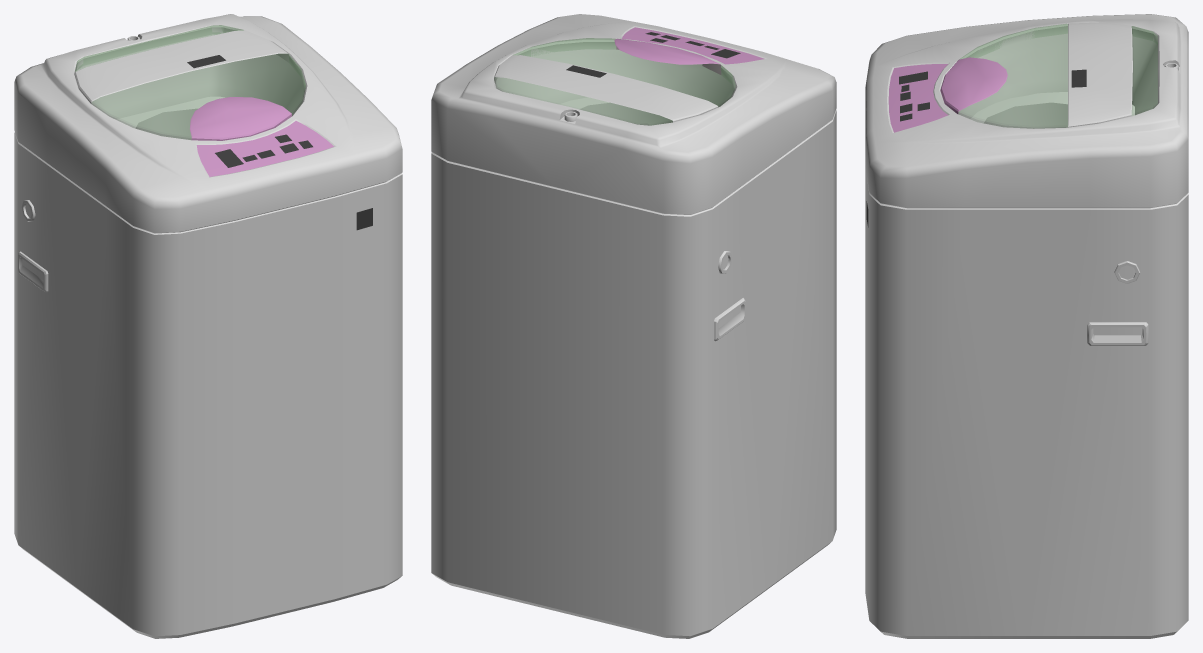
Rendered from HAIERXQB4510B.FBX.
3 renders of one model, left to right at view 1: azimuth 30°, elevation 25°; view 2: azimuth 150°, elevation 25°; view 3: azimuth 270°, elevation 25°, orthographic. The views are drawn at different scales.
Visible parts, largest first — view 1: HAIERXQB4510B; view 2: HAIERXQB4510B; view 3: HAIERXQB4510B.
Part boxes in pixels (x1,y1,x2,y2): HAIERXQB4510B: (14,14,402,638); HAIERXQB4510B: (431,14,836,638); HAIERXQB4510B: (865,14,1188,638).
Size of the model in its own units: 1348 by 2269 by 1313.
